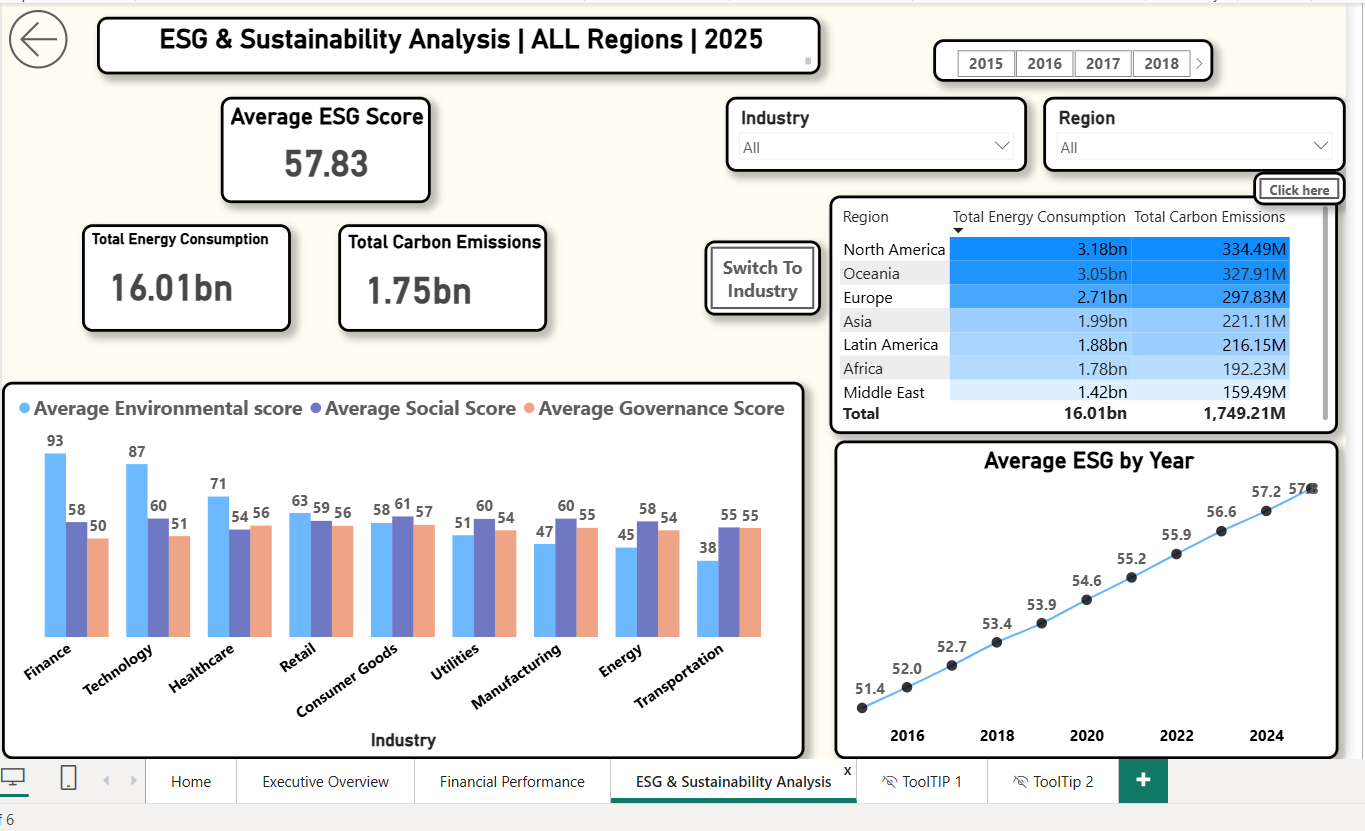

What the dashboard file says about the page in this screenshot:
{"tool":"powerbi","page":{"name":"ESG & Sustainability Analysis","canvas":[1920,1080],"ordinal":3},"visuals":[{"type":"slicer","fields":{"Values":["dim_date.Year"]},"box":[1330.4,51.8,400,60.7],"z":0},{"type":"slicer","fields":{"Values":["dim_company.Industry"]},"box":[1033.9,133.9,430.4,107.1],"z":1000},{"type":"slicer","fields":{"Values":["dim_company.Region"]},"box":[1487.5,133.9,432.1,107.1],"z":2000},{"type":"textbox","box":[135.7,19.6,1033.9,82.1],"z":3000},{"type":"cardVisual","title":"Average ESG Score","fields":{"Data":["dim_company.Average ESG"]},"box":[312.5,133.9,300,151.8],"z":4000},{"type":"cardVisual","title":"Total Carbon Emissions","fields":{"Data":["dim_company.Total Carbon Emssions"]},"box":[480.4,316.1,298.2,153.6],"z":5000},{"type":"cardVisual","title":"Total Energy Consumption","fields":{"Data":["dim_company.Total Energy Consumption"]},"box":[114.3,316.1,298.2,153.6],"z":6000},{"type":"clusteredColumnChart","fields":{"Category":["dim_company.Industry"],"Y":["dim_company.Average Environmental score","dim_company.Average Social Score","dim_company.Average governance Score"]},"box":[0,541.1,1146.4,539.3],"z":7000},{"type":"pivotTable","fields":{"Rows":["dim_company.Region"],"Values":["dim_company.Total Energy Consumption","dim_company.Total Carbon Emssions"]},"box":[1182.1,275,726.8,341.1],"z":8000},{"type":"lineChart","fields":{"Y":["dim_company.Average ESG"],"Category":["dim_date.Year"]},"box":[1189.3,625,719.6,455.4],"z":9000},{"type":"actionButton","title":"Click here to check an extra (Carbon Emissions vs Revenue) Analysis","box":[1003.6,339.3,166.1,107.1],"z":11000},{"type":"actionButton","title":"Click here to check an extra (Carbon Emissions vs Revenue) Analysis","box":[1787.5,241.1,132.1,48.2],"z":13000},{"type":"actionButton","box":[0,0,485.7,103.6],"z":16000}]}

Visuals, with their boxes in screenshot pixels (x1, y1, x2, y2):
slicer - dim_date.Year: l=929, t=36, r=1210, b=79
slicer - dim_company.Industry: l=721, t=94, r=1023, b=169
slicer - dim_company.Region: l=1039, t=94, r=1342, b=169
textbox: l=92, t=14, r=816, b=71
"Average ESG Score" cardVisual: l=216, t=94, r=426, b=200
"Total Carbon Emissions" cardVisual: l=333, t=222, r=542, b=329
"Total Energy Consumption" cardVisual: l=77, t=222, r=286, b=329
clusteredColumnChart - dim_company.Industry x dim_company.Average Environmental score: l=0, t=379, r=800, b=757
pivotTable - dim_company.Region x dim_company.Total Energy Consumption: l=825, t=193, r=1335, b=432
lineChart - dim_company.Average ESG x dim_date.Year: l=830, t=438, r=1335, b=757
"Click here to check an extra (Carbon Emissions vs Revenue) Analysis" actionButton: l=700, t=238, r=817, b=313
"Click here to check an extra (Carbon Emissions vs Revenue) Analysis" actionButton: l=1250, t=169, r=1342, b=203
actionButton: l=0, t=0, r=337, b=73
